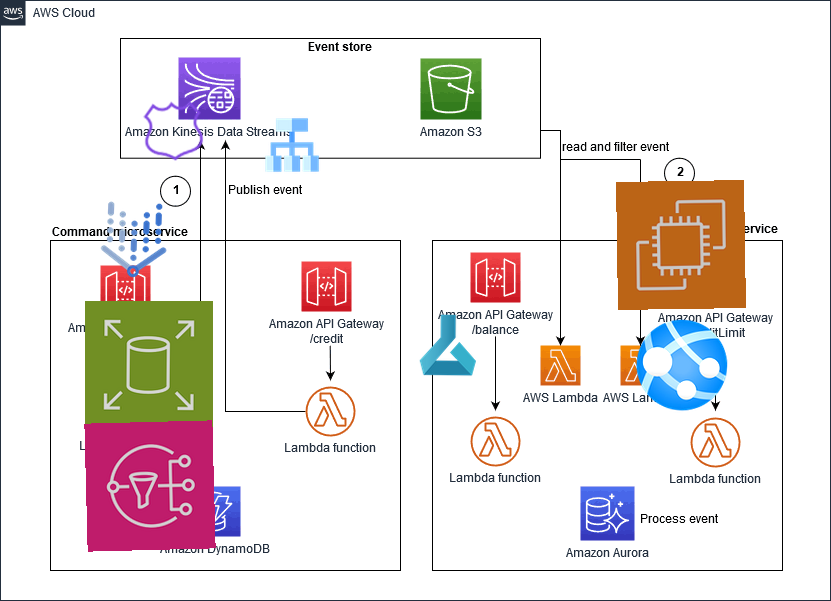aws_amazon_ec2: (616, 180, 746, 310)
aws_amazon_elastic_block_store: (84, 300, 214, 430)
aws_amazon_simple_notification_service: (84, 420, 216, 552)
aws_route_53_hosted_zone: (139, 96, 209, 166)
azure_app_services: (631, 314, 733, 416)
azure_machine_learning: (415, 312, 481, 378)
gcp_cloud_load_balancing: (259, 112, 325, 178)
gcp_vertex_ai: (84, 190, 184, 290)
